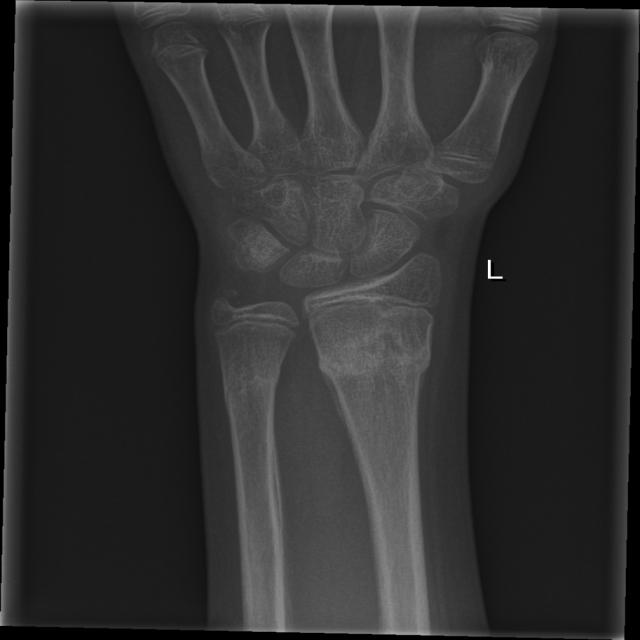radius fracture: (302, 321, 461, 414)
ulna fracture: (203, 338, 296, 428)
